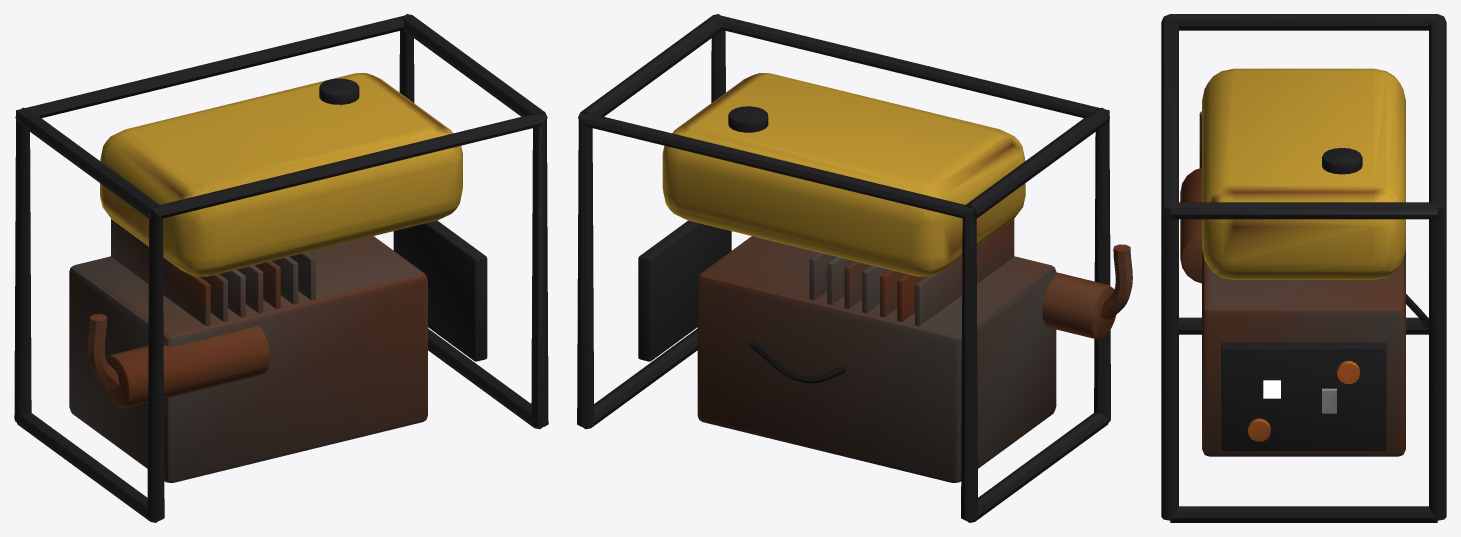
File: Generator.glb
3 renders of one model, left to right at view 1: azimuth 30°, elevation 25°; view 2: azimuth 150°, elevation 25°; view 3: azimuth 270°, elevation 25°, orthographic.
Visible parts, largest first — view 1: Generator_iron, Generator_metal_dark, Generator_paint_yellow, Generator_rust; view 2: Generator_iron, Generator_metal_dark, Generator_paint_yellow, Generator_rust, Generator_rubber; view 3: Generator_metal_dark, Generator_paint_yellow, Generator_iron, Generator_rust, Generator_plastic_orange, Generator_steel, Generator_flame.
Boxes of the visible parts, left/top/right/bottom form: Generator_iron: left=69, top=219, right=427, bottom=482; Generator_metal_dark: left=14, top=14, right=548, bottom=522; Generator_paint_yellow: left=100, top=73, right=462, bottom=276; Generator_rust: left=87, top=314, right=269, bottom=408; Generator_iron: left=697, top=219, right=1056, bottom=482; Generator_metal_dark: left=577, top=14, right=1110, bottom=522; Generator_paint_yellow: left=662, top=73, right=1025, bottom=276; Generator_rust: left=1042, top=244, right=1132, bottom=338; Generator_rubber: left=749, top=340, right=845, bottom=383; Generator_metal_dark: left=1161, top=14, right=1446, bottom=522; Generator_paint_yellow: left=1202, top=68, right=1405, bottom=279; Generator_iron: left=1202, top=249, right=1405, bottom=456; Generator_rust: left=1180, top=111, right=1201, bottom=283; Generator_plastic_orange: left=1248, top=361, right=1359, bottom=441; Generator_steel: left=1322, top=388, right=1336, bottom=413; Generator_flame: left=1263, top=380, right=1280, bottom=398.
Size of the model in its own units: 4.01 by 2.77 by 2.24.
